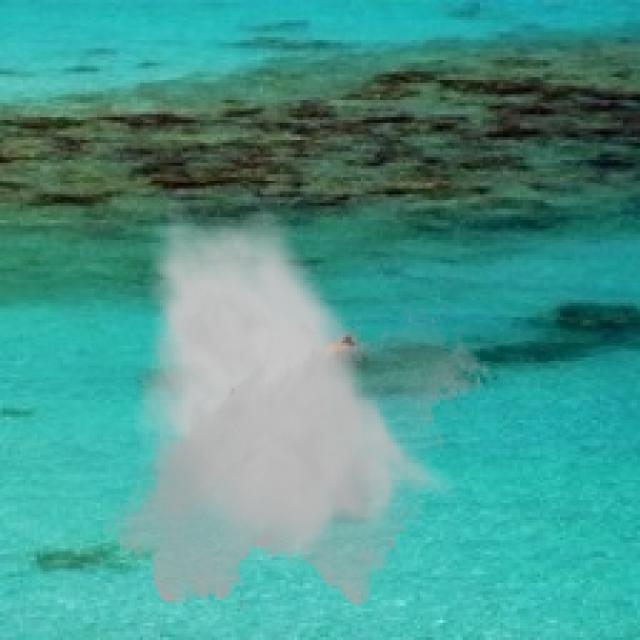smoke: (103, 194, 491, 617)
